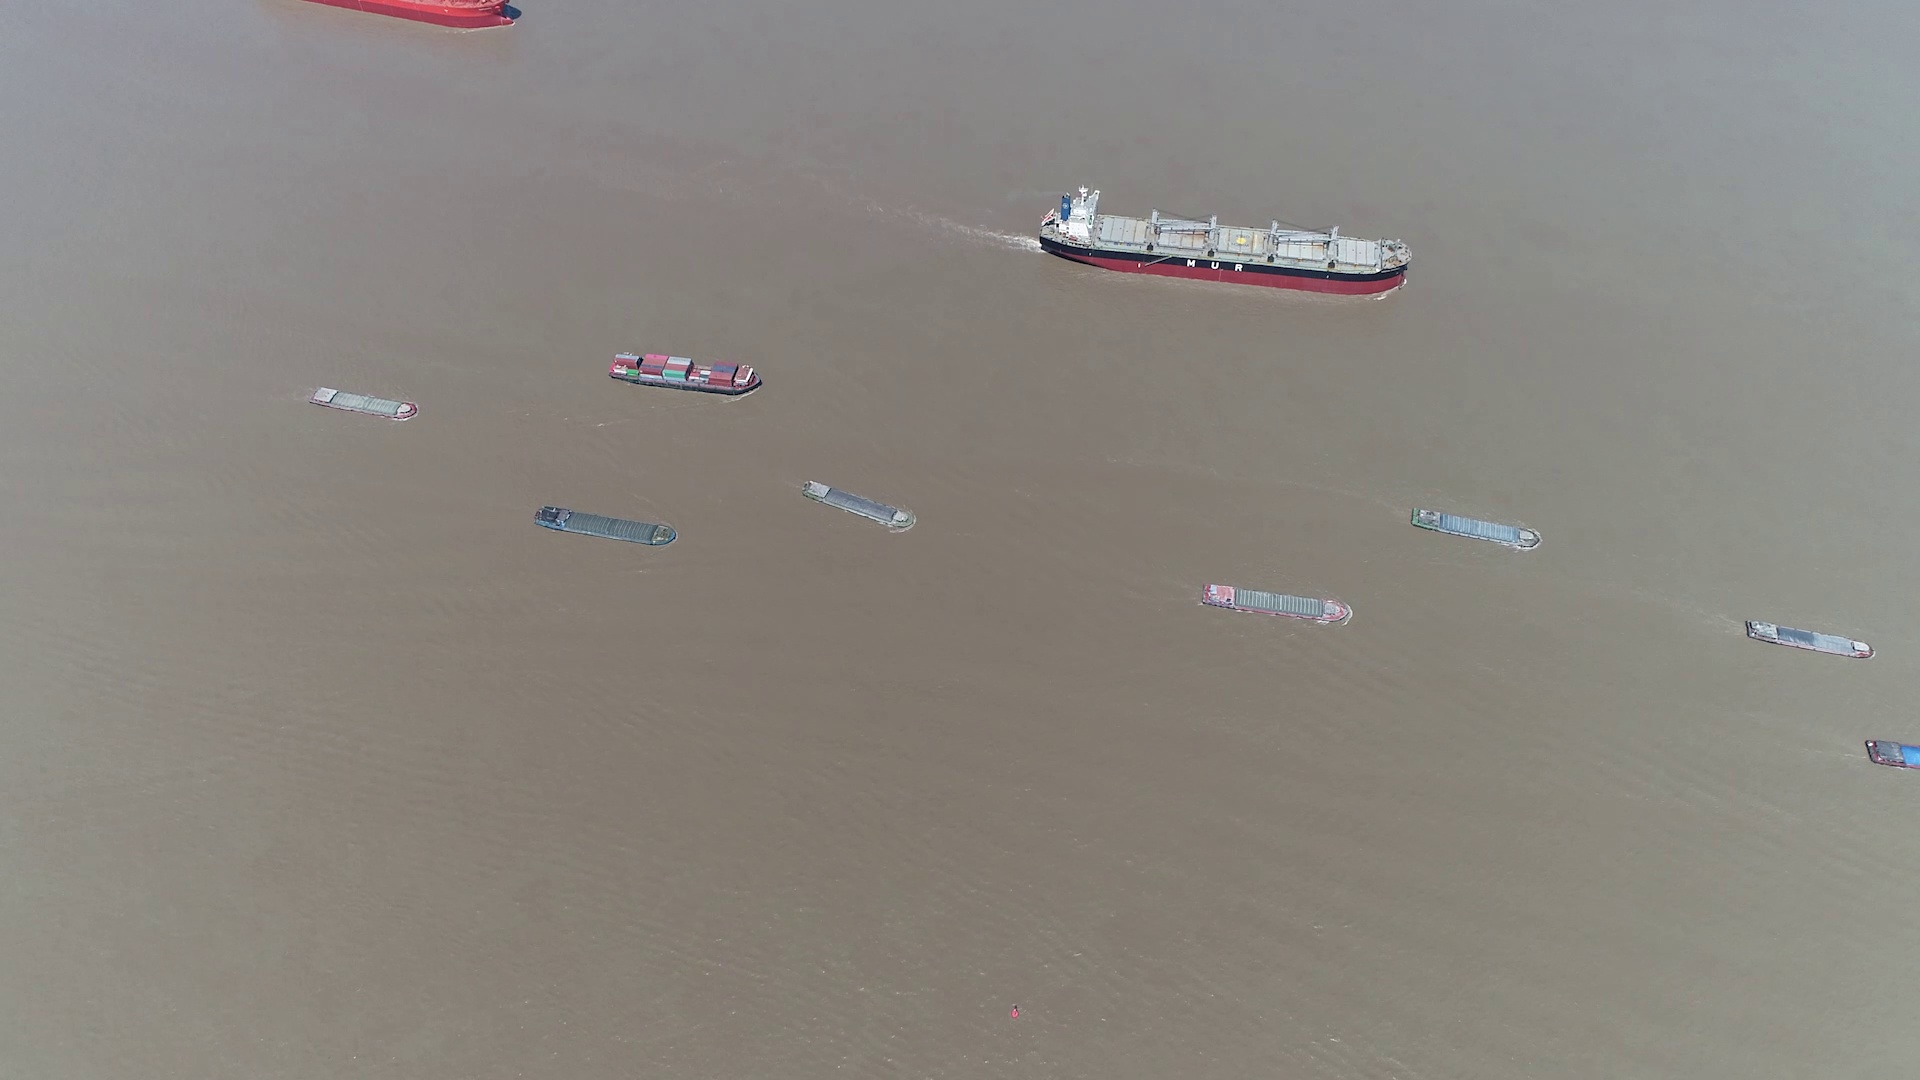ship: (1042, 189, 1412, 294), (607, 349, 762, 394), (1203, 582, 1353, 624), (1408, 506, 1542, 551), (534, 506, 676, 547), (804, 480, 916, 531), (1745, 618, 1874, 659), (309, 382, 419, 419), (1866, 738, 1917, 773)
